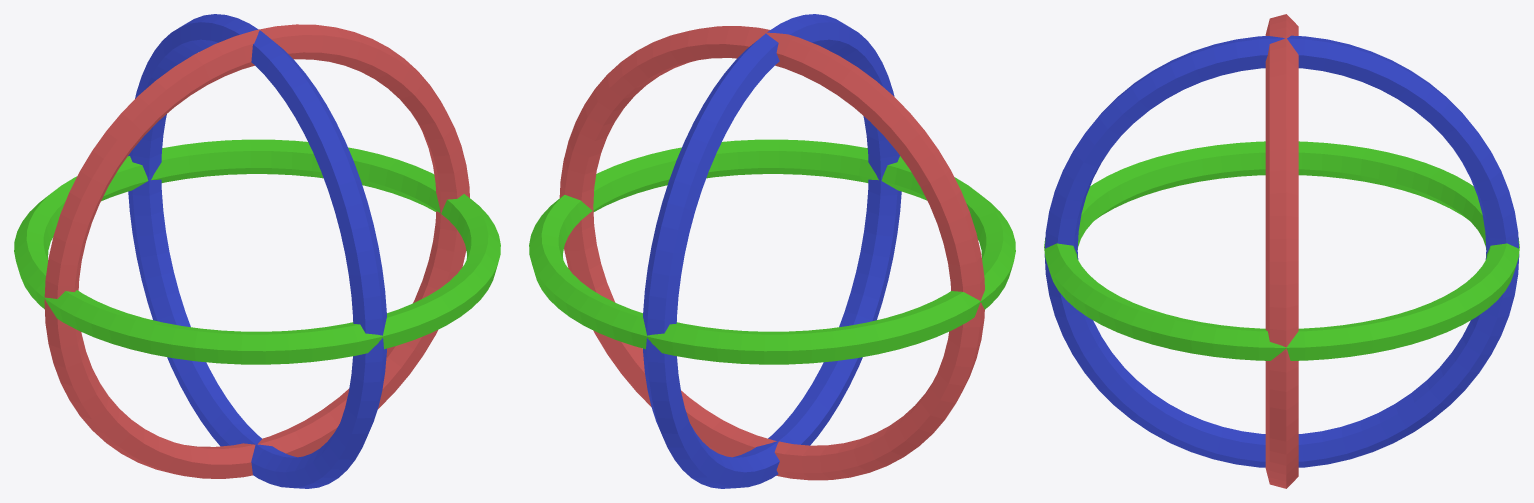
The model's file is gizmo_rotate.glb.
3 renders of one model, left to right at view 1: azimuth 30°, elevation 25°; view 2: azimuth 150°, elevation 25°; view 3: azimuth 270°, elevation 25°, orthographic. The views are drawn at different scales.
Visible parts, largest first — view 1: GIZ_X_COL, GIZ_Y_COL, GIZ_Z_COL; view 2: GIZ_X_COL, GIZ_Y_COL, GIZ_Z_COL; view 3: GIZ_Z_COL, GIZ_Y_COL, GIZ_X_COL.
Boxes of the visible parts, x1,y1,x2,y2 form: GIZ_X_COL: (44, 24, 469, 478); GIZ_Y_COL: (14, 139, 500, 364); GIZ_Z_COL: (128, 14, 386, 488); GIZ_X_COL: (559, 26, 984, 480); GIZ_Y_COL: (529, 139, 1015, 364); GIZ_Z_COL: (643, 14, 901, 488); GIZ_Z_COL: (1044, 35, 1519, 467); GIZ_Y_COL: (1044, 141, 1519, 360); GIZ_X_COL: (1265, 14, 1298, 488).
Size of the model in its own units: 1.07 by 1.07 by 1.07.
Materials: 1 (1 with a texture image).
